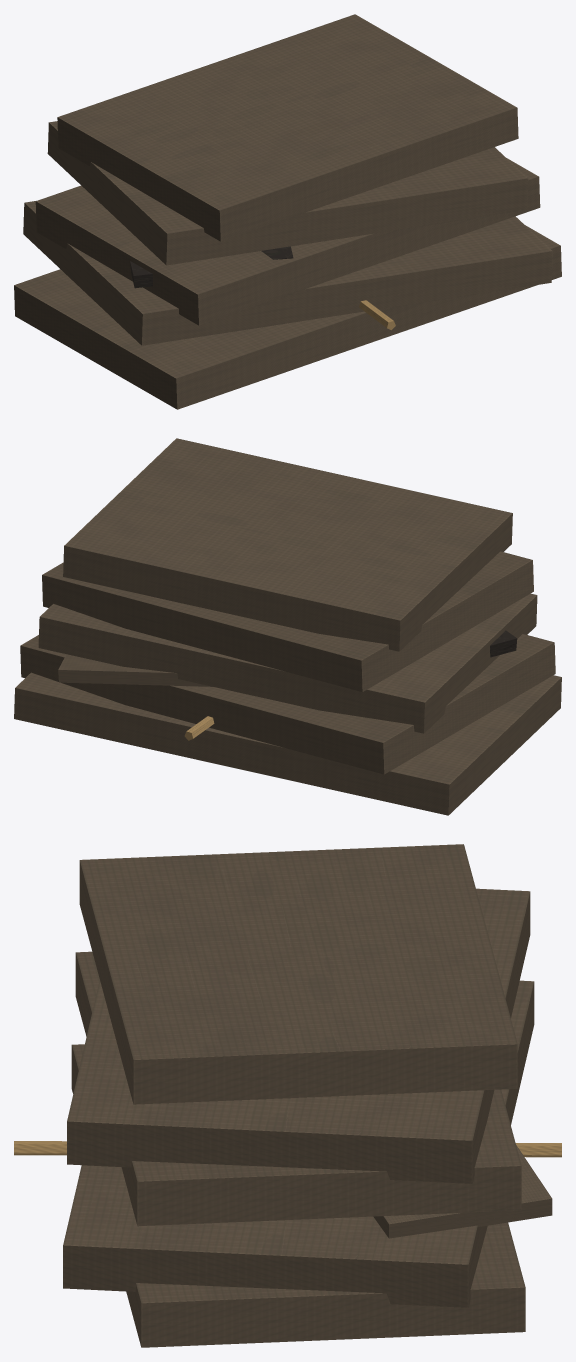
Rendered from pr-013_cloth_bundle__medium.obj.
The picture shows the model from 3 angles, top to bottom: view 1: azimuth 30°, elevation 25°; view 2: azimuth 150°, elevation 25°; view 3: azimuth 270°, elevation 25°; orthographic projection. The views are drawn at different scales.
Parts seen in each view (by area): view 1: pr-013_cloth_bundle__medium; view 2: pr-013_cloth_bundle__medium; view 3: pr-013_cloth_bundle__medium.
Boxes of the visible parts, bbox=[...] form: pr-013_cloth_bundle__medium: bbox=[14, 14, 561, 409]; pr-013_cloth_bundle__medium: bbox=[14, 438, 561, 815]; pr-013_cloth_bundle__medium: bbox=[14, 844, 561, 1347].
Size of the model in its own units: 0.4503 by 0.2446 by 0.3507.
3 materials, 3 textured.
